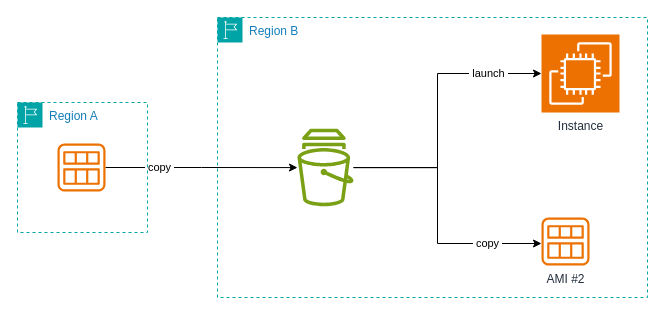
This 665x315 diagram has some shape labels left out. Here are the shapes that lost their labels. From the top down, the centre of each, then its label:
At pixel 81 167: "AMI #1".
At pixel 325 167: "EBS snapshot (or template if istance store backed)".
